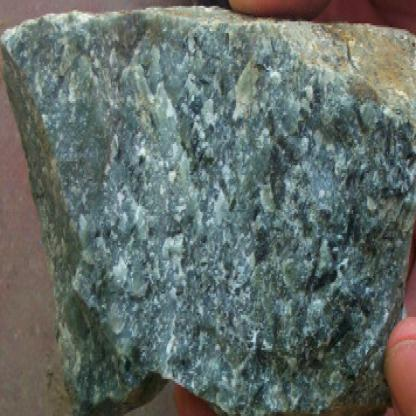Metamorphic_Quartize: (0, 4, 415, 414)
